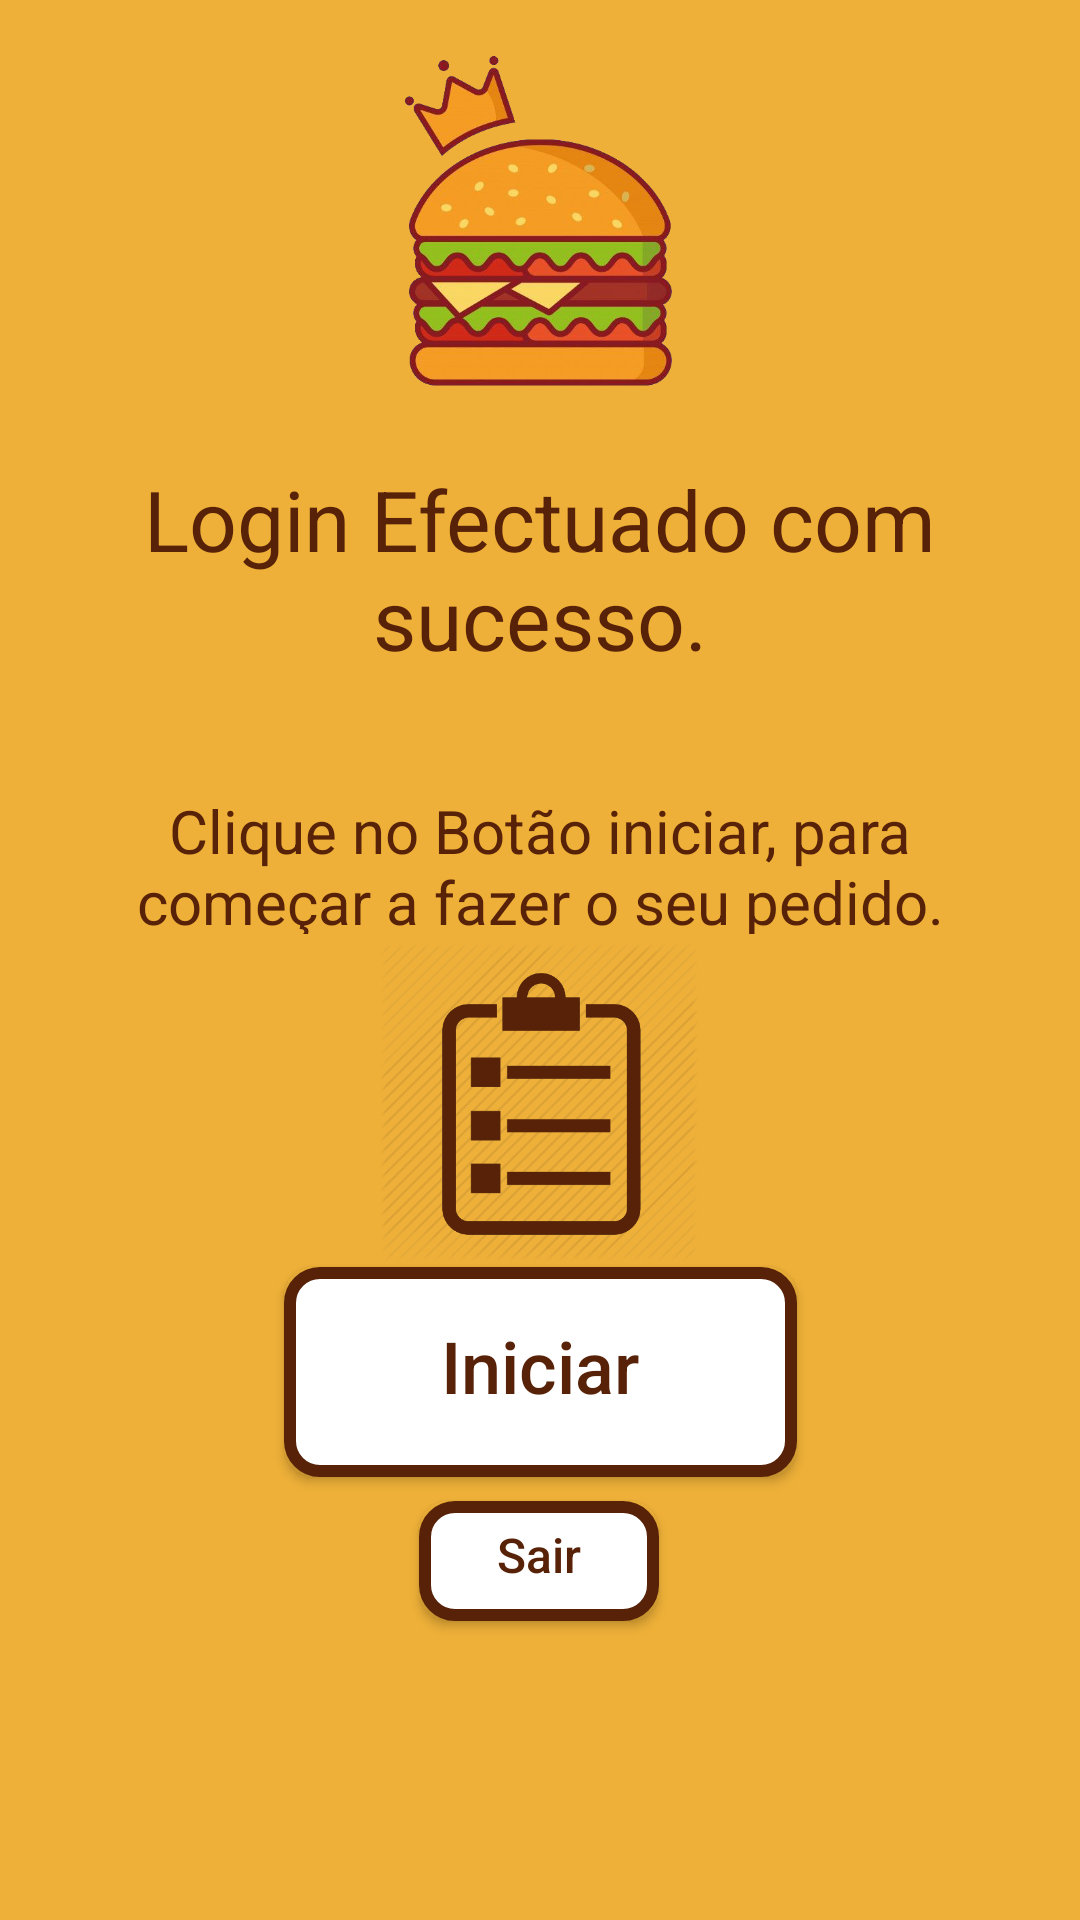

Where to tap for icons on this 1080×1920 app screen, as (x=x, y=y):
burguer: (x=538, y=221)
order: (x=541, y=1104)
